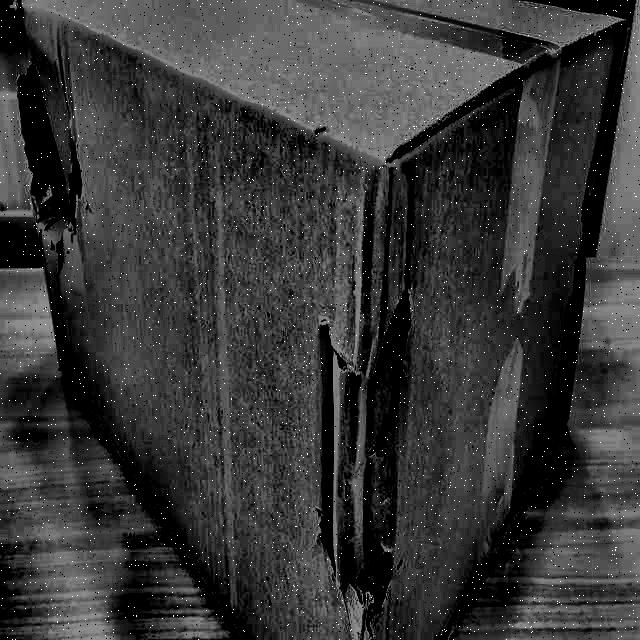box: (1, 0, 635, 639)
hole: (311, 279, 416, 639), (16, 68, 86, 290)
